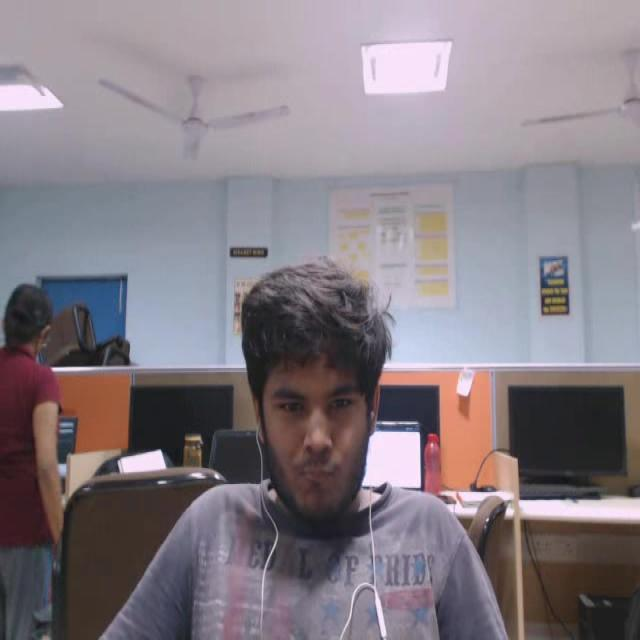Bored: (199, 237, 461, 582)
